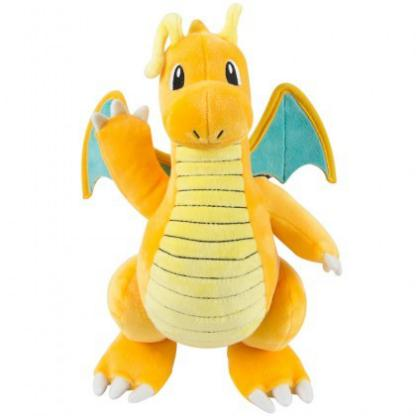Dragonite: (55, 12, 341, 393)
